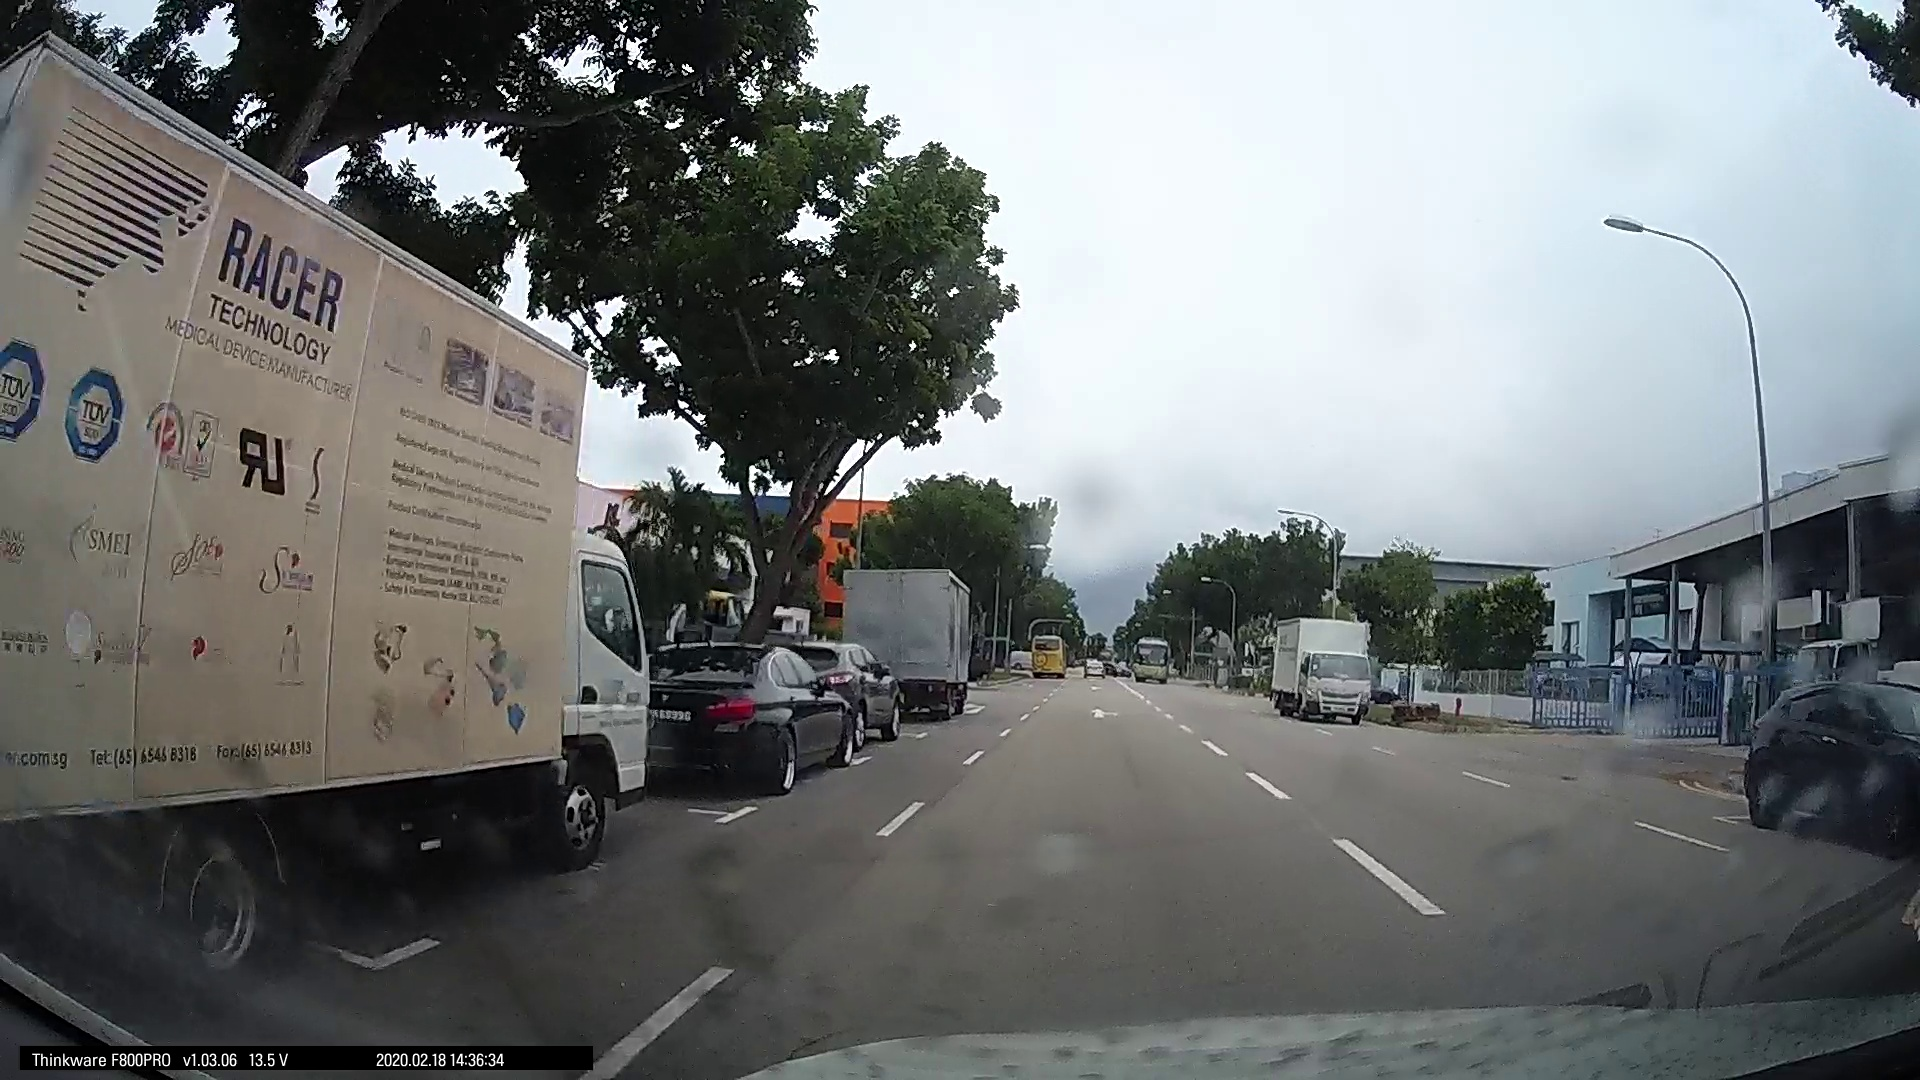Heavy Vehicle: (12, 84, 618, 973), (836, 560, 977, 727), (1261, 615, 1375, 724)
Light Vehicle: (636, 636, 849, 793), (1738, 673, 1919, 843), (786, 638, 898, 746), (1022, 622, 1068, 679), (1130, 638, 1172, 683)
